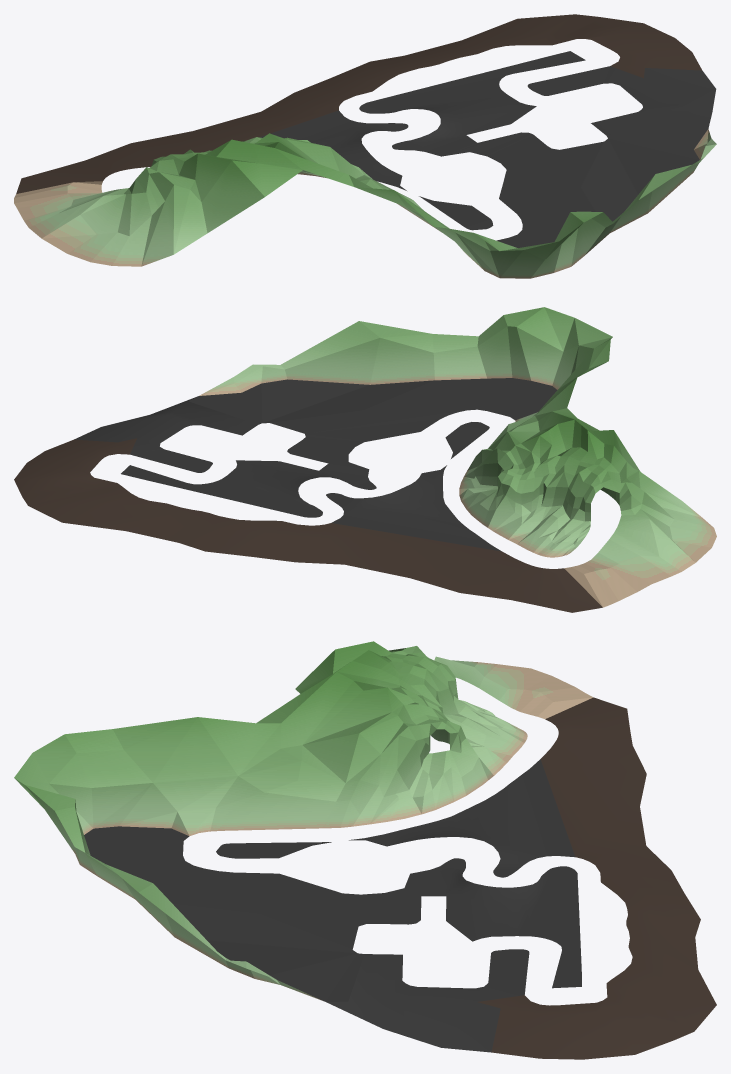
File: Terrai_ajusté 1.fbx
The picture shows the model from 3 angles, top to bottom: view 1: azimuth 30°, elevation 25°; view 2: azimuth 150°, elevation 25°; view 3: azimuth 270°, elevation 25°; orthographic projection. The views are drawn at different scales.
Parts seen in each view (by area): view 1: Trottoirs.003, Trottoirs.001; view 2: Trottoirs.003, Trottoirs.001; view 3: Trottoirs.003, Trottoirs.001.
Boxes of the visible parts, box(x1,y1,x2,y2) form: Trottoirs.003: box(16, 14, 716, 247); Trottoirs.001: box(14, 129, 716, 278); Trottoirs.003: box(14, 378, 602, 612); Trottoirs.001: box(199, 307, 716, 607); Trottoirs.003: box(84, 697, 716, 1059); Trottoirs.001: box(14, 641, 593, 1000).
Size of the model in its own units: 59801 by 8129 by 46269.
